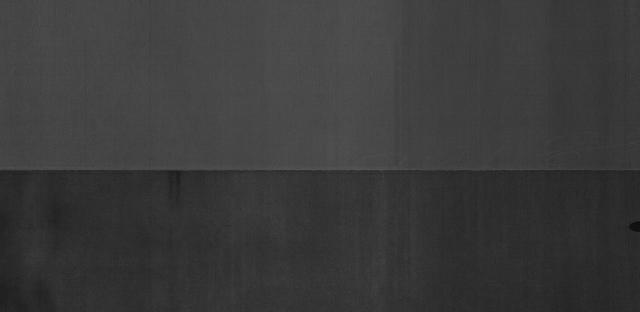welding_line: (1, 163, 640, 182)
